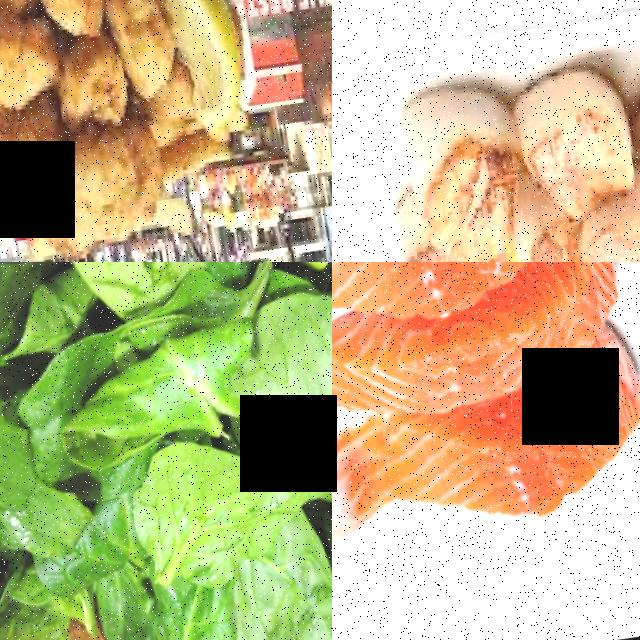salmon: (406, 385, 640, 534), (332, 289, 573, 428), (332, 262, 564, 341)
sea scallops: (394, 79, 524, 262), (507, 65, 639, 207), (509, 205, 588, 262), (577, 197, 640, 262)
spinach: (123, 425, 330, 576), (232, 278, 332, 477), (46, 262, 211, 302), (145, 575, 236, 640)
